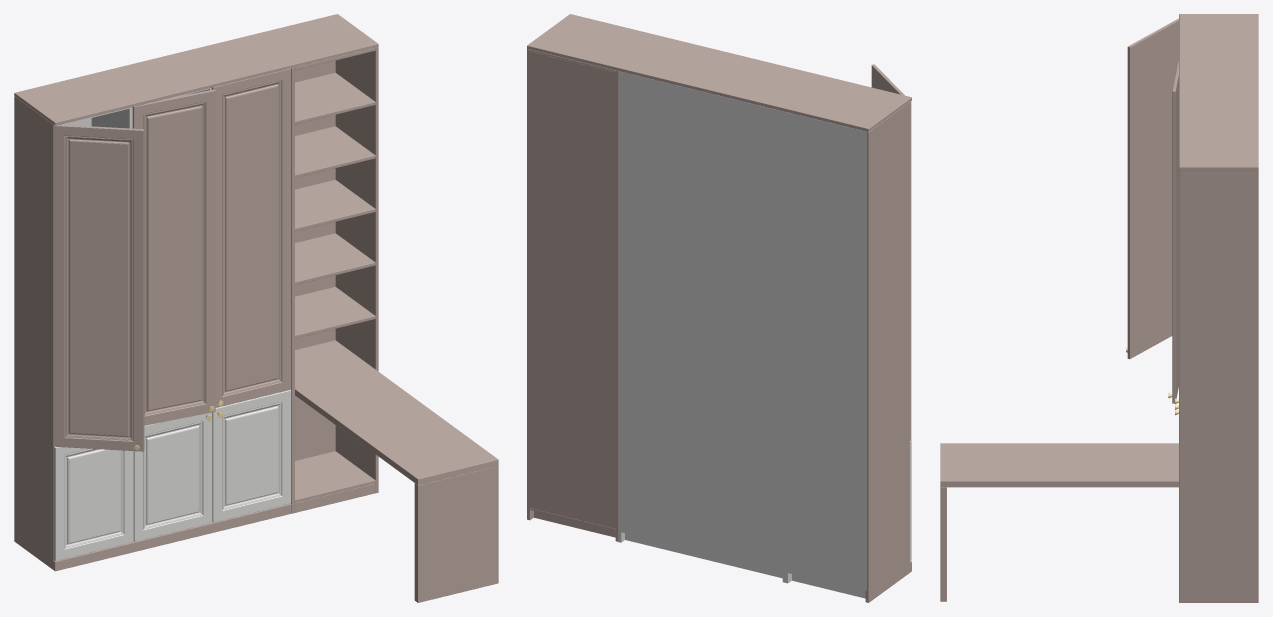
File: newwardrobe2.fbx
3 views of the same model, side by side, from view 1: azimuth 30°, elevation 25°; view 2: azimuth 150°, elevation 25°; view 3: azimuth 270°, elevation 25° (orthographic). The views are drawn at different scales.
Parts seen in each view (by area): view 1: Rectangle010, Rectangle014, Rectangle012, VIFS006, VIFS008, Box001, Box002, VIFS016, Rectangle015, Rectangle013, Rectangle011, VIFS017 (+10 smaller); view 2: VIFS039, VIFS017, VIFS007, VIFS006, VIFS008, VIFS015, VIFS036, Rectangle010, VIFS016, VIFS033, VIFS001, VIFS038 (+2 smaller); view 3: VIFS016, Rectangle010, VIFS008, Box001, Rectangle012, Box002.
Boxes of the visible parts, left/top/right/bottom form: Rectangle010: left=54, top=124, right=144, bottom=451; Rectangle014: left=211, top=68, right=291, bottom=407; Rectangle012: left=132, top=89, right=215, bottom=425; VIFS006: left=14, top=96, right=54, bottom=569; VIFS008: left=14, top=14, right=378, bottom=125; Box001: left=295, top=340, right=498, bottom=485; Box002: left=414, top=466, right=498, bottom=602; VIFS016: left=335, top=47, right=378, bottom=492; Rectangle015: left=212, top=389, right=291, bottom=522; Rectangle013: left=133, top=412, right=212, bottom=541; Rectangle011: left=53, top=446, right=133, bottom=560; VIFS017: left=295, top=60, right=335, bottom=460; VIFS039: left=620, top=71, right=783, bottom=570; VIFS017: left=528, top=51, right=616, bottom=528; VIFS007: left=786, top=112, right=866, bottom=590; VIFS006: left=865, top=102, right=909, bottom=602; VIFS008: left=527, top=14, right=911, bottom=131; VIFS015: left=615, top=70, right=618, bottom=541; VIFS036: left=625, top=533, right=782, bottom=578; Rectangle010: left=871, top=64, right=911, bottom=440; VIFS016: left=527, top=49, right=533, bottom=520; VIFS033: left=618, top=71, right=624, bottom=542; VIFS001: left=785, top=112, right=791, bottom=583; VIFS038: left=782, top=111, right=785, bottom=582; VIFS016: left=1179, top=170, right=1258, bottom=602; Rectangle010: left=1127, top=18, right=1178, bottom=359; VIFS008: left=1179, top=14, right=1258, bottom=170; Box001: left=940, top=443, right=1178, bottom=487; Rectangle012: left=1172, top=58, right=1178, bottom=403; Box002: left=940, top=487, right=946, bottom=601.
Bounding box in the file's own units: 205 × 272 × 180.
